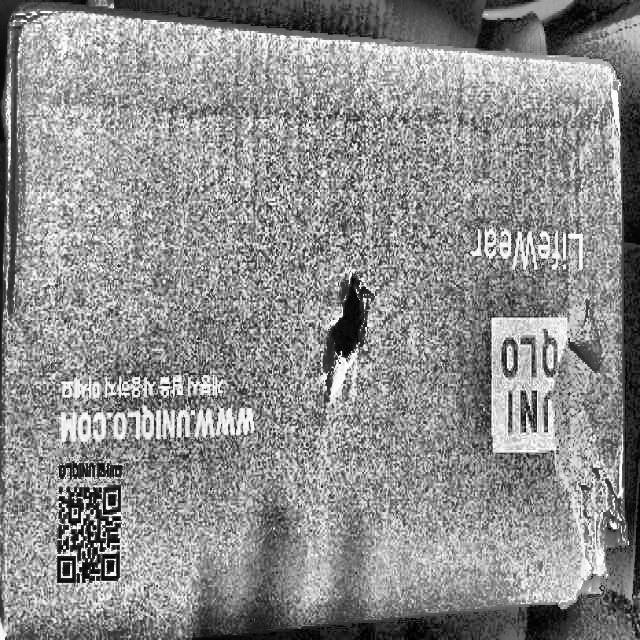box: (0, 0, 640, 640)
hole: (532, 332, 640, 611), (321, 281, 376, 366)
